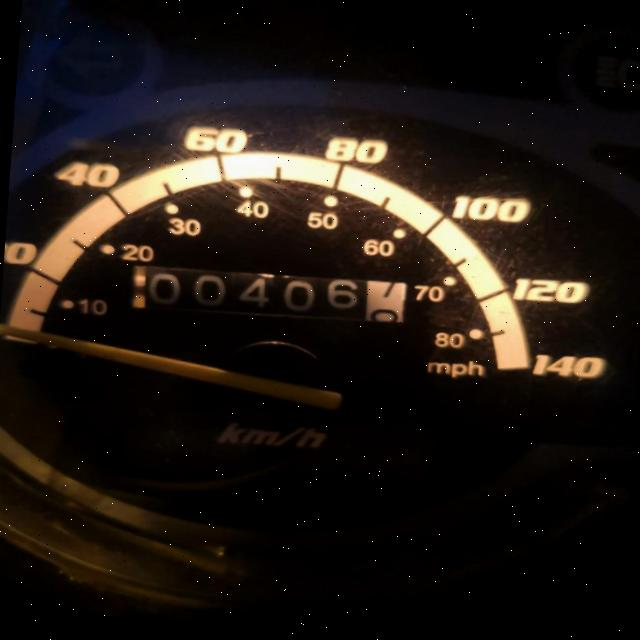odometer: (122, 260, 410, 330)
